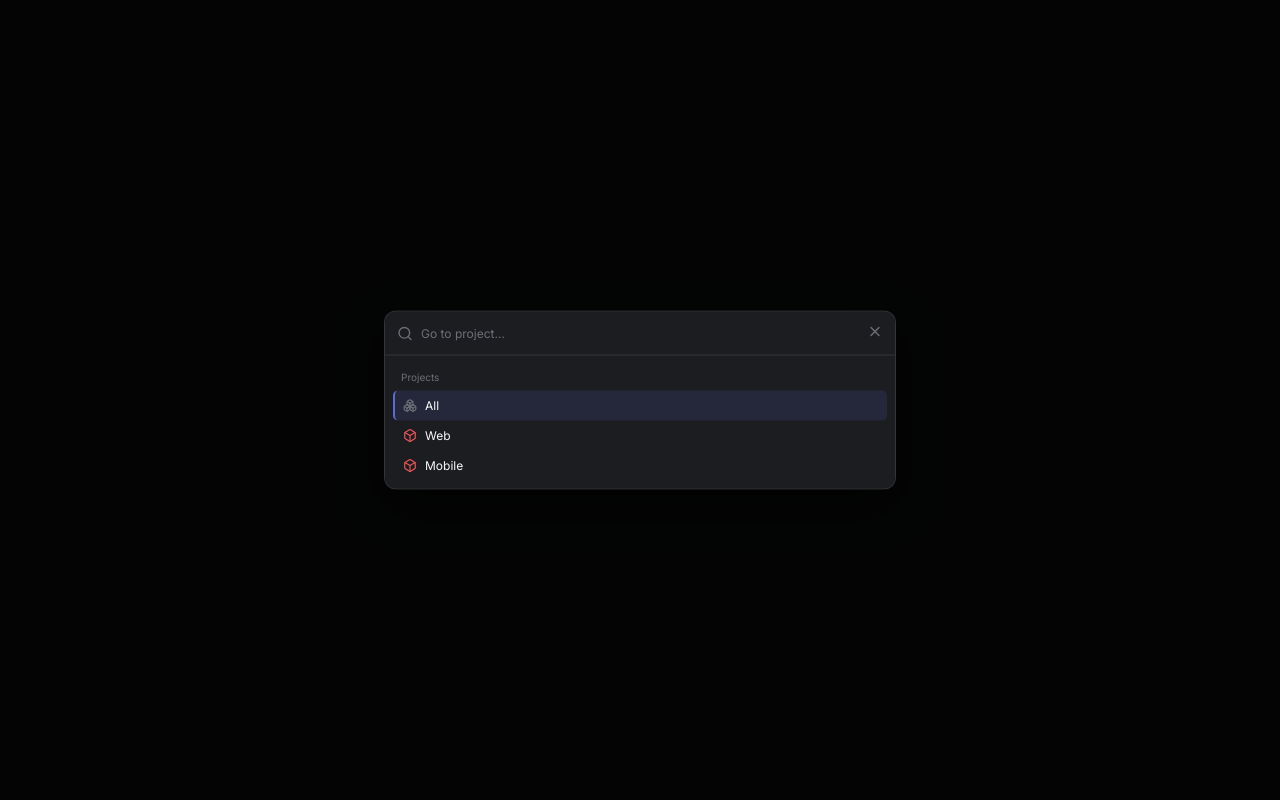
Scenario: ProjectSwitcher › typing filters the project list
The width and height of the screenshot is (1280, 800).
Expected: the option "Web" is shown, [403,428,451,442]
Expected: the option "Mobile" is shown, [403,458,463,472]
In the dropdown with placeholder "Go to project…": [652, 333] box [421,313,883,353], type "Mob"
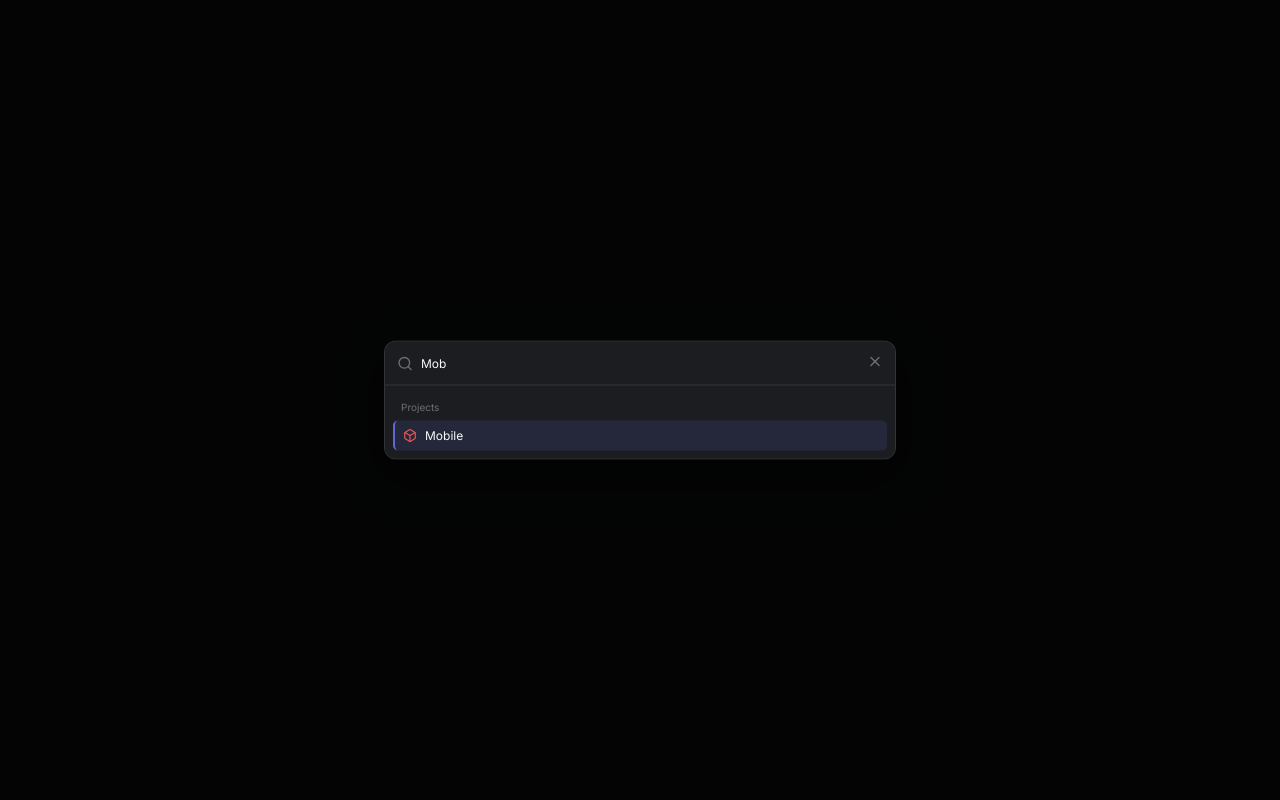
Expected: the option "Mobile" is shown, [393,420,887,450]
Expected: the option "Web" is gone
